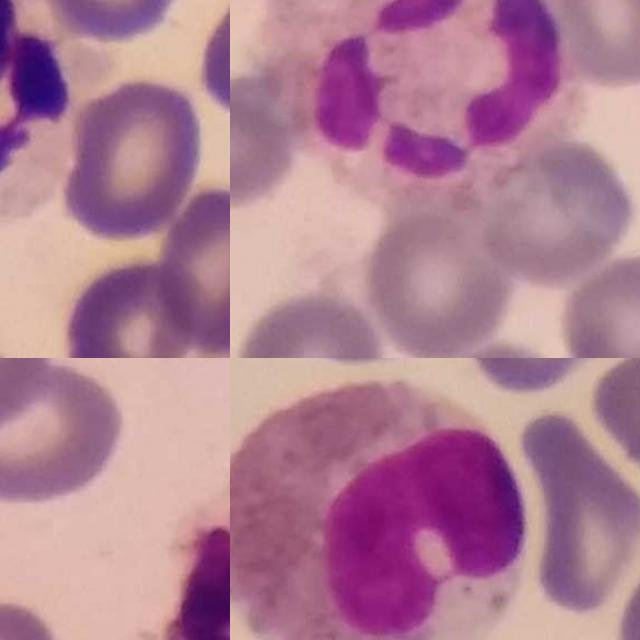Eosinophil: (230, 377, 526, 640)
Neutrophil: (274, 0, 574, 211), (0, 0, 79, 233)
